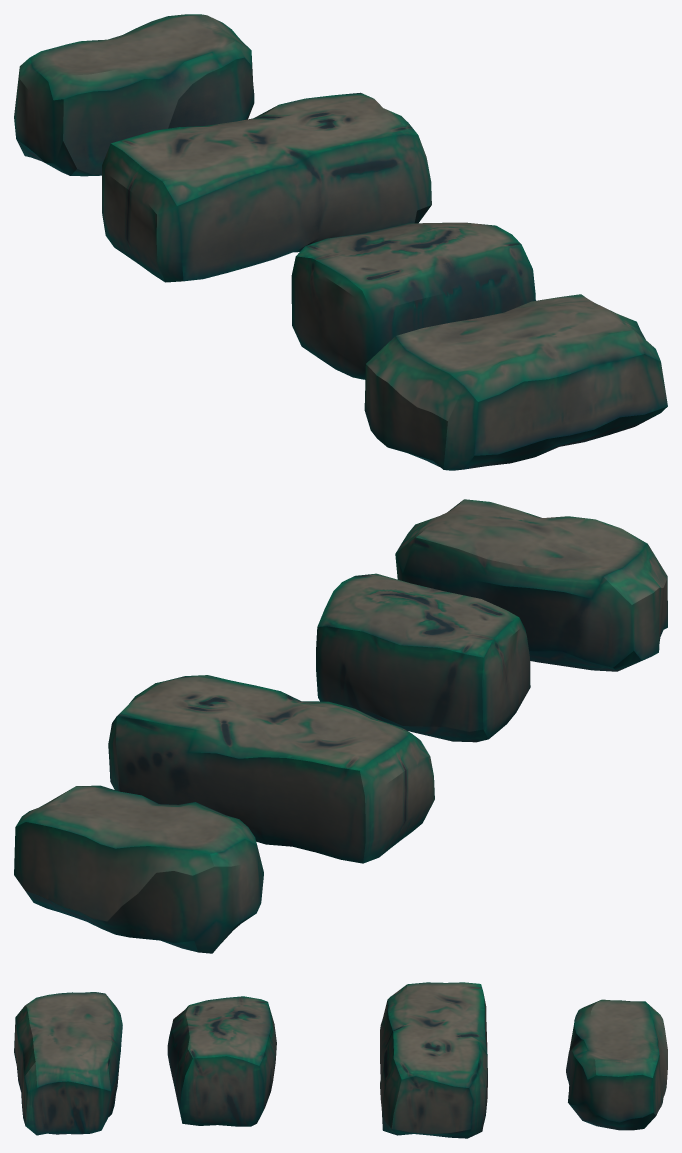
Rendered from Block_1.fbx.
The picture shows the model from 3 angles, top to bottom: view 1: azimuth 30°, elevation 25°; view 2: azimuth 150°, elevation 25°; view 3: azimuth 270°, elevation 25°; orthographic projection. The views are drawn at different scales.
Visible parts, largest first — view 1: Block_2_1, Block_1_1, Block_3_1, Block_0_1; view 2: Block_2_1, Block_3_1, Block_1_1, Block_0_1; view 3: Block_2_1, Block_1_1, Block_0_1, Block_3_1.
Part boxes in pixels (x1,y1,x2,y2): Block_2_1: [102, 92, 431, 282]; Block_1_1: [364, 294, 667, 470]; Block_3_1: [14, 14, 254, 176]; Block_0_1: [291, 222, 535, 379]; Block_2_1: [108, 675, 434, 863]; Block_3_1: [14, 785, 263, 953]; Block_1_1: [395, 499, 667, 671]; Block_0_1: [316, 573, 530, 742]; Block_2_1: [380, 982, 487, 1138]; Block_1_1: [14, 992, 122, 1135]; Block_0_1: [167, 996, 276, 1126]; Block_3_1: [566, 999, 667, 1130].
Size of the model in its own units: 157 by 67.6 by 458.
